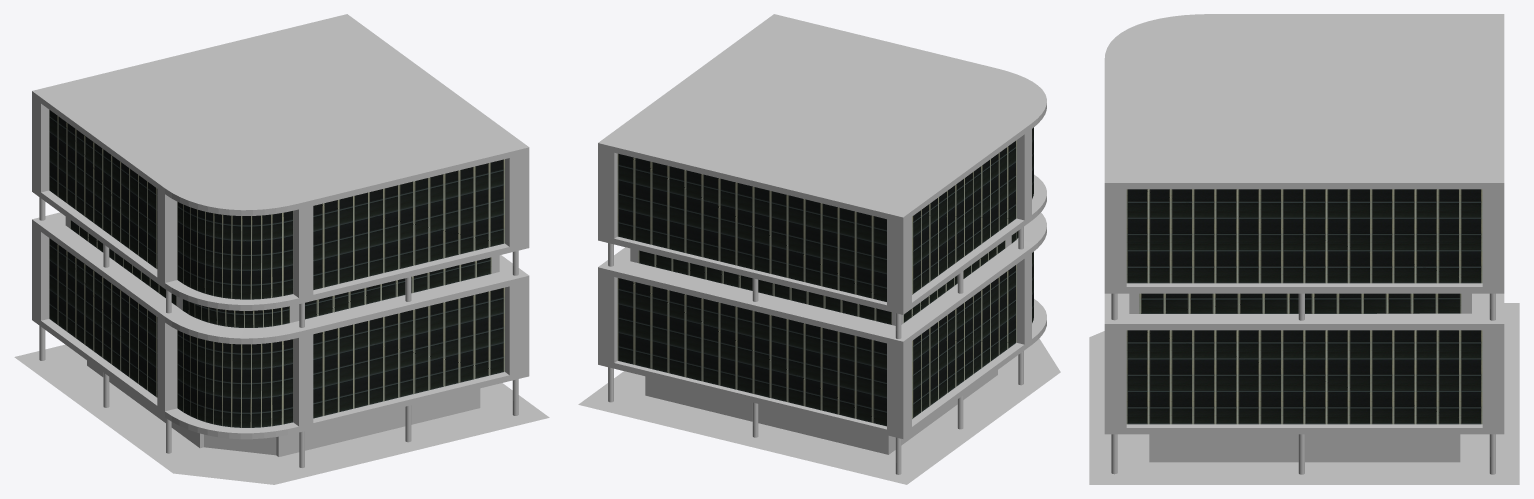
3 renders of one model, left to right at view 1: azimuth 30°, elevation 25°; view 2: azimuth 150°, elevation 25°; view 3: azimuth 270°, elevation 25°, orthographic. The views are drawn at different scales.
Parts seen in each view (by area): view 1: EB-014; view 2: EB-014; view 3: EB-014.
Boxes of the visible parts, box(x1,y1,x2,y2) form: EB-014: box(14, 14, 549, 484); EB-014: box(578, 14, 1060, 484); EB-014: box(1089, 14, 1519, 484).
Size of what is drawn, in the model's own units: 36 by 27.2 by 36.
